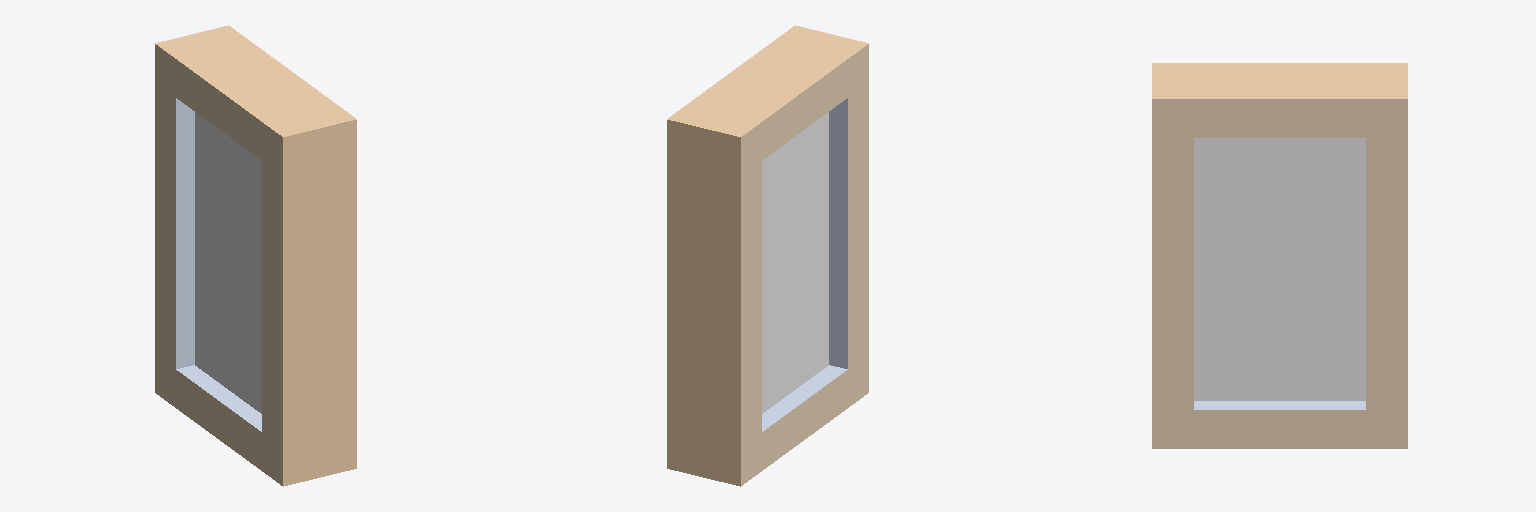
File: teleporter-egypt.obj
The picture shows the model from 3 angles: view 1: azimuth 30°, elevation 25°; view 2: azimuth 150°, elevation 25°; view 3: azimuth 270°, elevation 25°; orthographic projection.
Visible parts, largest first — view 1: entity0_brush1, entity0_brush4, entity0_brush0, entity0_brush3, entity0_brush2; view 2: entity0_brush3, entity0_brush4, entity0_brush0, entity0_brush1, entity0_brush2; view 3: entity0_brush4, entity0_brush0, entity0_brush1, entity0_brush3, entity0_brush2.
Boxes of the visible parts, x1,y1,x2,y2 form: entity0_brush1: [262, 120, 356, 486]; entity0_brush4: [195, 112, 261, 413]; entity0_brush0: [155, 25, 356, 159]; entity0_brush3: [155, 45, 194, 391]; entity0_brush2: [155, 365, 282, 485]; entity0_brush3: [667, 120, 761, 486]; entity0_brush4: [762, 112, 828, 413]; entity0_brush0: [667, 25, 868, 159]; entity0_brush1: [829, 45, 868, 391]; entity0_brush2: [741, 365, 868, 485]; entity0_brush4: [1194, 138, 1365, 400]; entity0_brush0: [1152, 63, 1407, 137]; entity0_brush1: [1152, 100, 1193, 447]; entity0_brush3: [1366, 100, 1407, 447]; entity0_brush2: [1152, 401, 1407, 448].
Size of the model in its own units: 32 by 144 by 96.